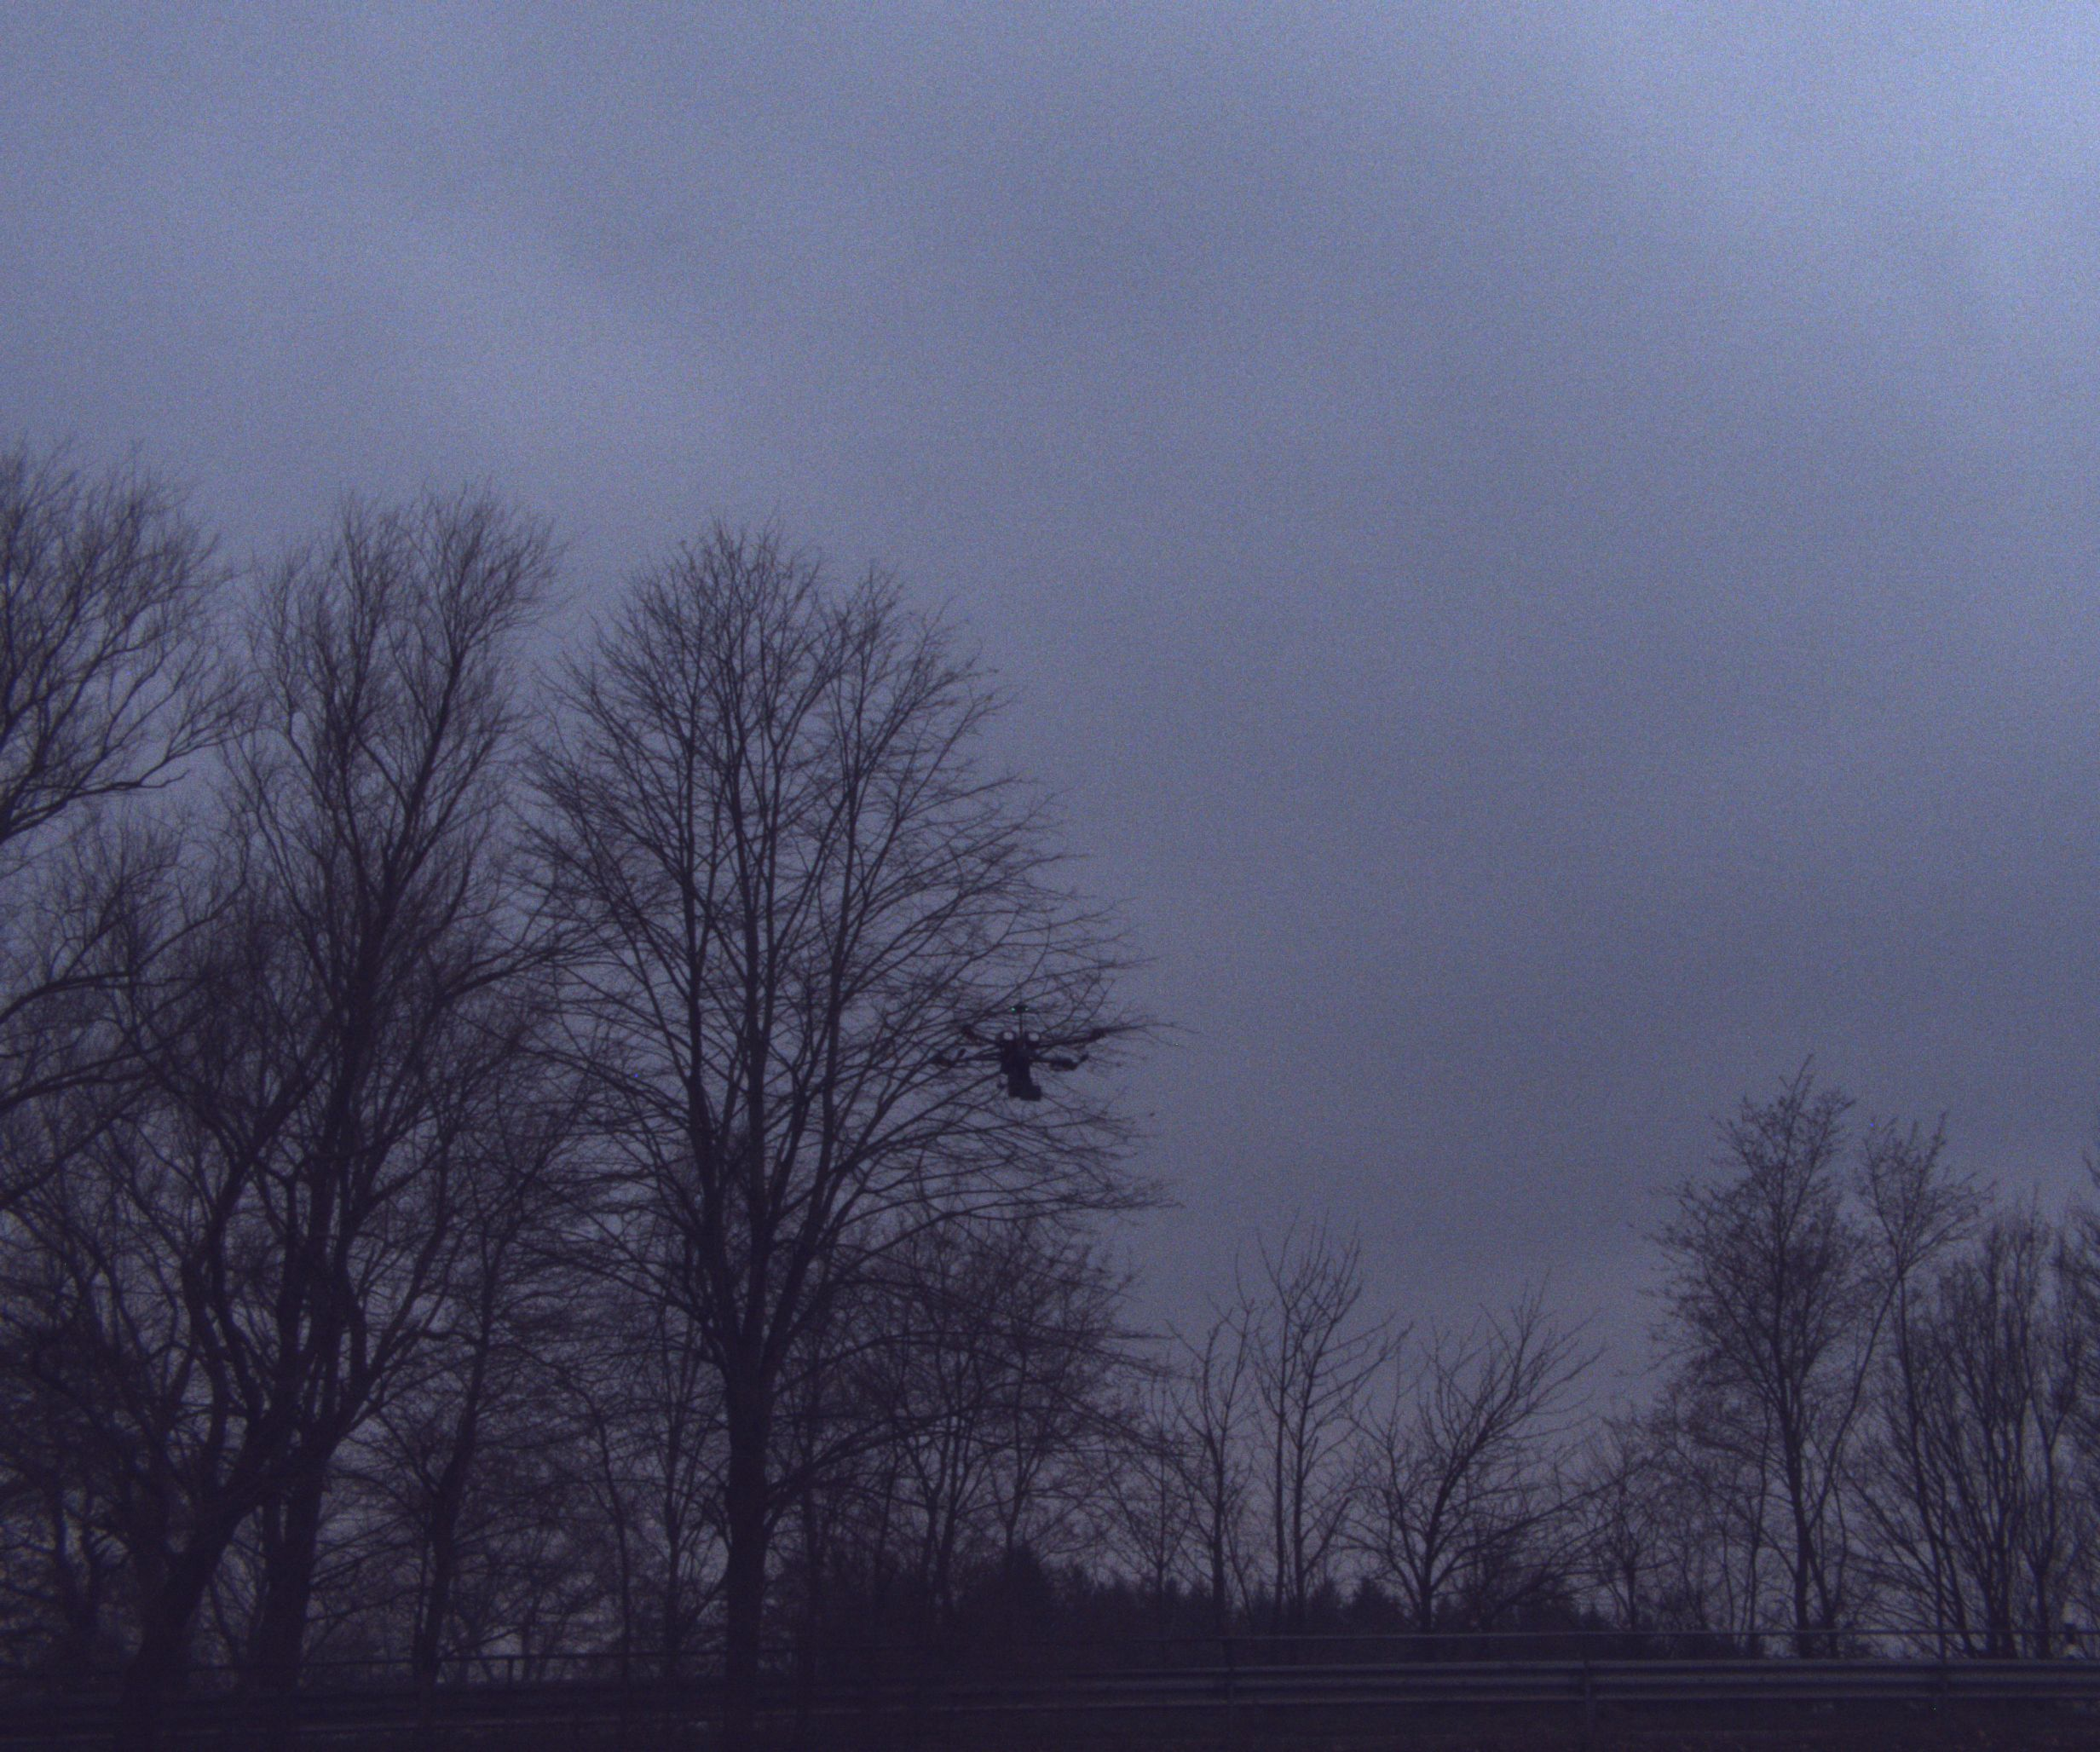Drohne: (938, 997, 1252, 1177)
